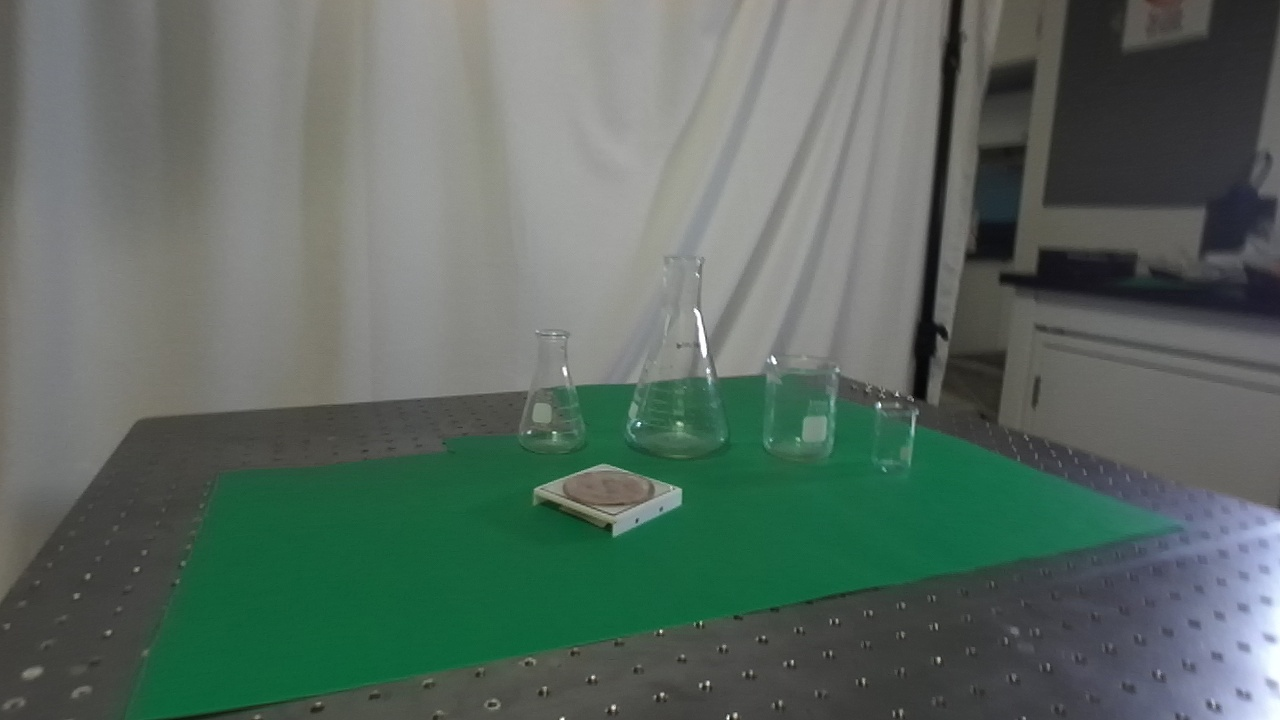glass: (620, 246, 734, 463), (512, 325, 593, 460), (759, 353, 841, 465), (866, 397, 921, 482)
plate: (526, 461, 686, 538)
